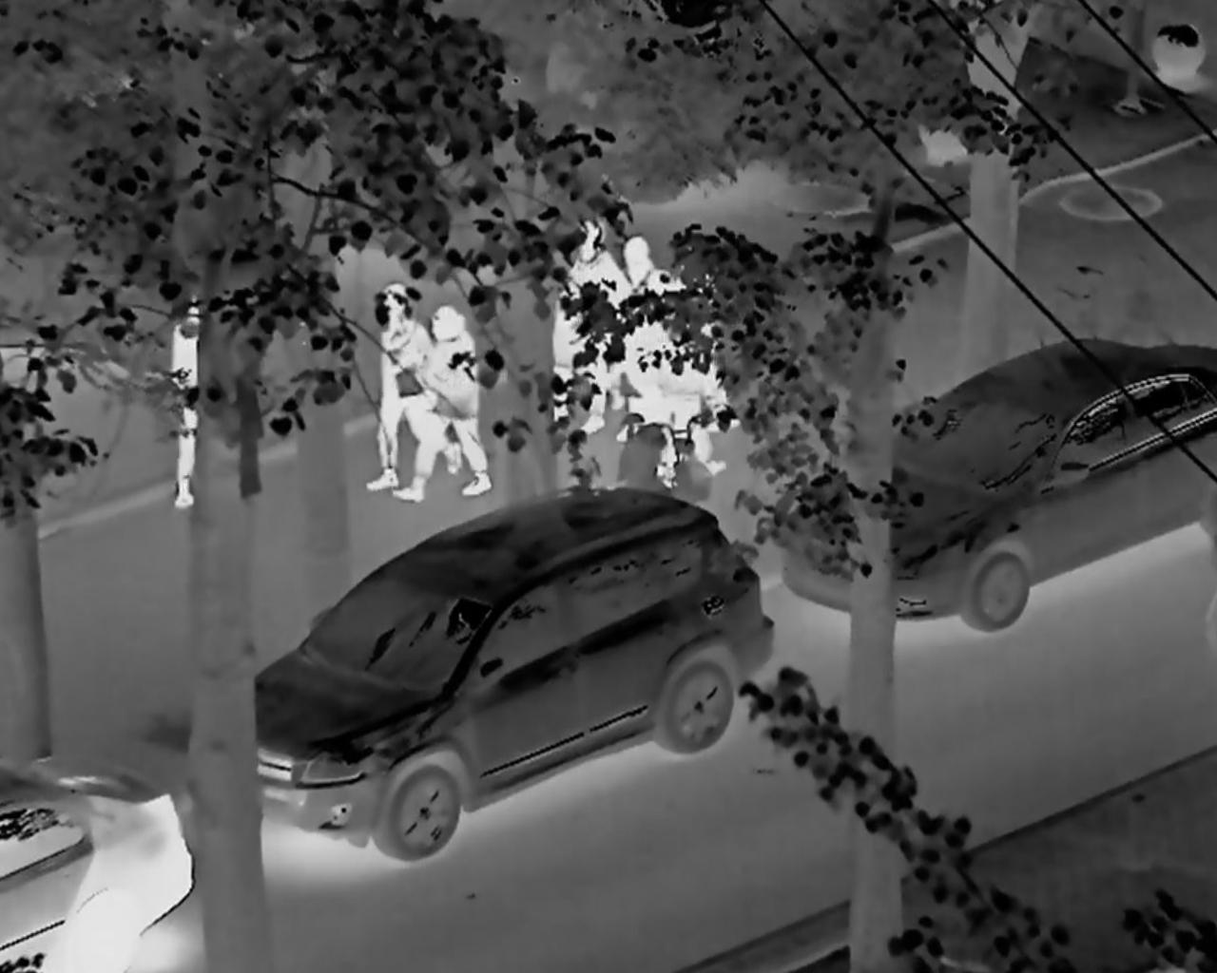person: (648, 257, 749, 487), (534, 201, 622, 435), (357, 263, 436, 513), (127, 277, 210, 506), (420, 279, 497, 508), (605, 232, 662, 440)
